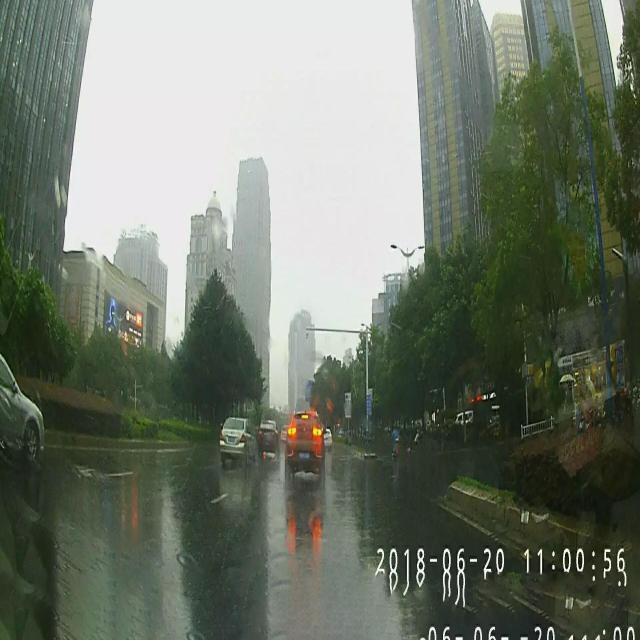car: (0, 346, 45, 462), (283, 407, 325, 486), (219, 412, 258, 469), (258, 418, 280, 458), (322, 426, 332, 454)
